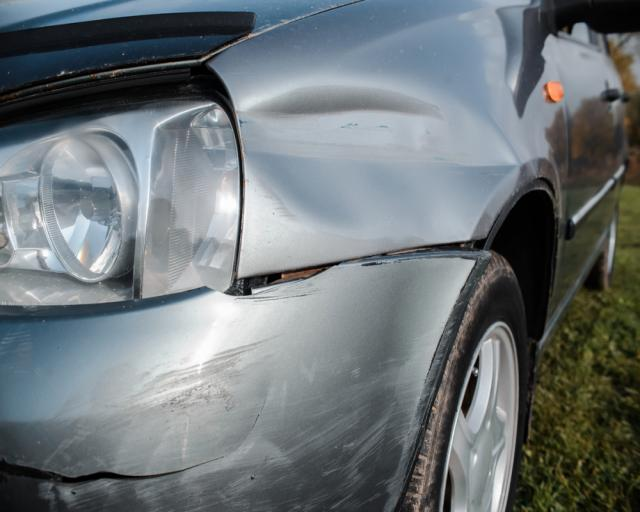crack: (0, 392, 271, 484)
dent: (237, 80, 519, 244)
scratch: (40, 320, 461, 512), (237, 284, 325, 300)
